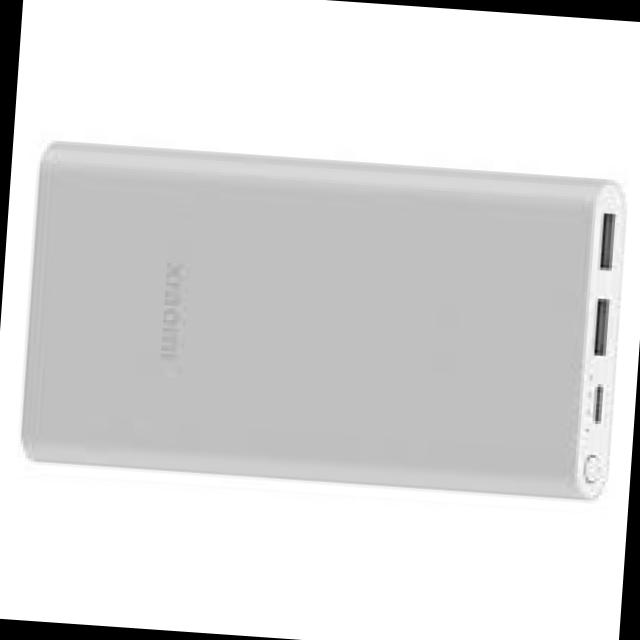power_bank: (7, 134, 634, 511)
